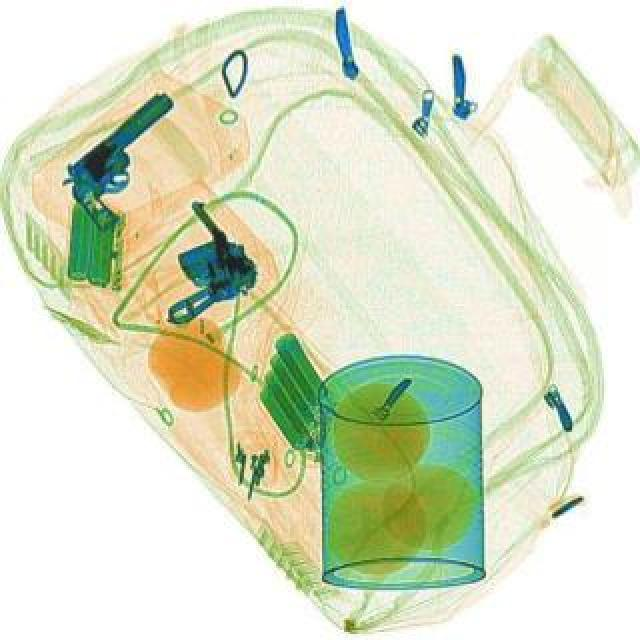gun: (42, 78, 198, 232), (136, 192, 266, 324)
